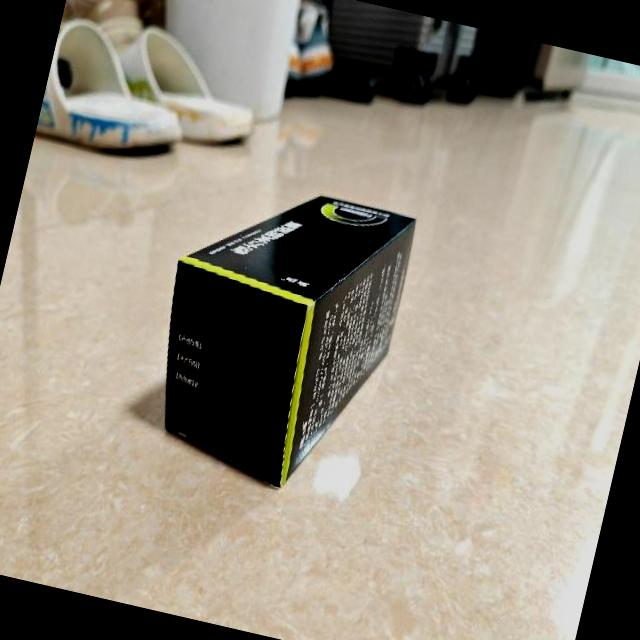box: (132, 164, 419, 505)
